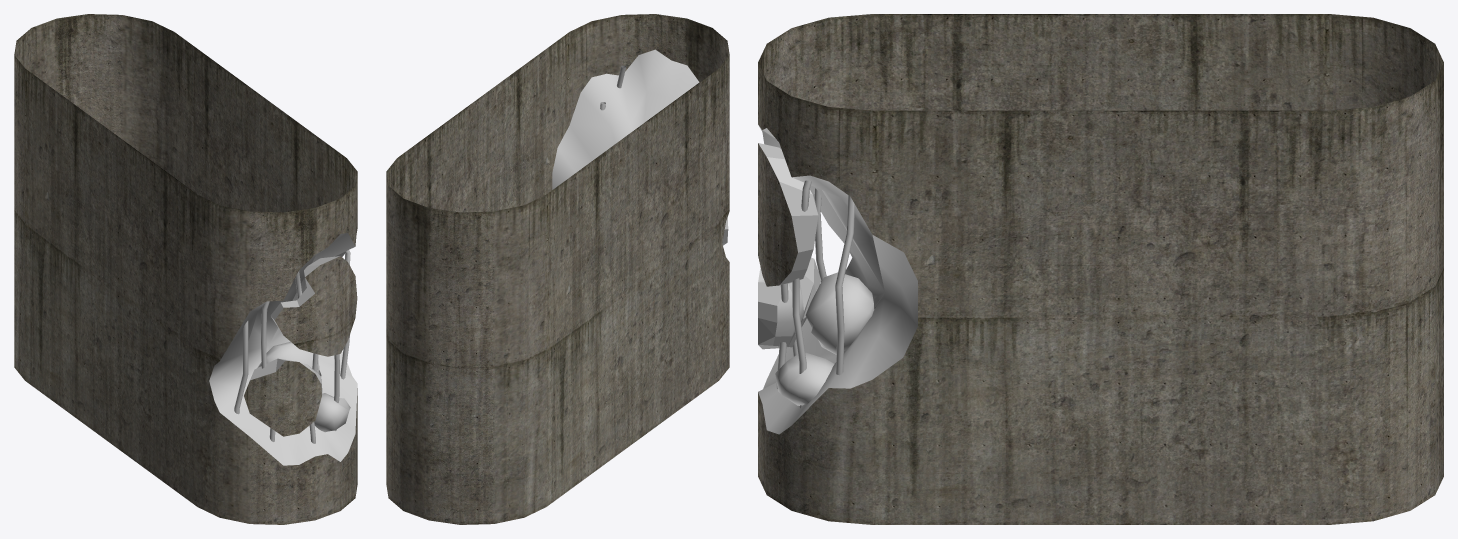
The model's file is concrete_pillar_broken01.dae.
3 views of the same model, side by side, from view 1: azimuth 30°, elevation 25°; view 2: azimuth 150°, elevation 25°; view 3: azimuth 270°, elevation 25° (orthographic). The views are drawn at different scales.
Visible parts, largest first — view 1: polySurface215, polySurface223, polySurface147; view 2: polySurface215, polySurface223; view 3: polySurface215, polySurface223, polySurface147.
Boxes of the visible parts, bbox=[...] form: polySurface215: bbox=[14, 14, 357, 524]; polySurface223: bbox=[209, 233, 357, 465]; polySurface147: bbox=[234, 250, 350, 443]; polySurface215: bbox=[386, 14, 729, 524]; polySurface223: bbox=[552, 49, 728, 245]; polySurface215: bbox=[758, 14, 1443, 524]; polySurface223: bbox=[758, 125, 917, 434]; polySurface147: bbox=[776, 180, 854, 408].
Size of the model in its own units: 2 by 4 by 6.
